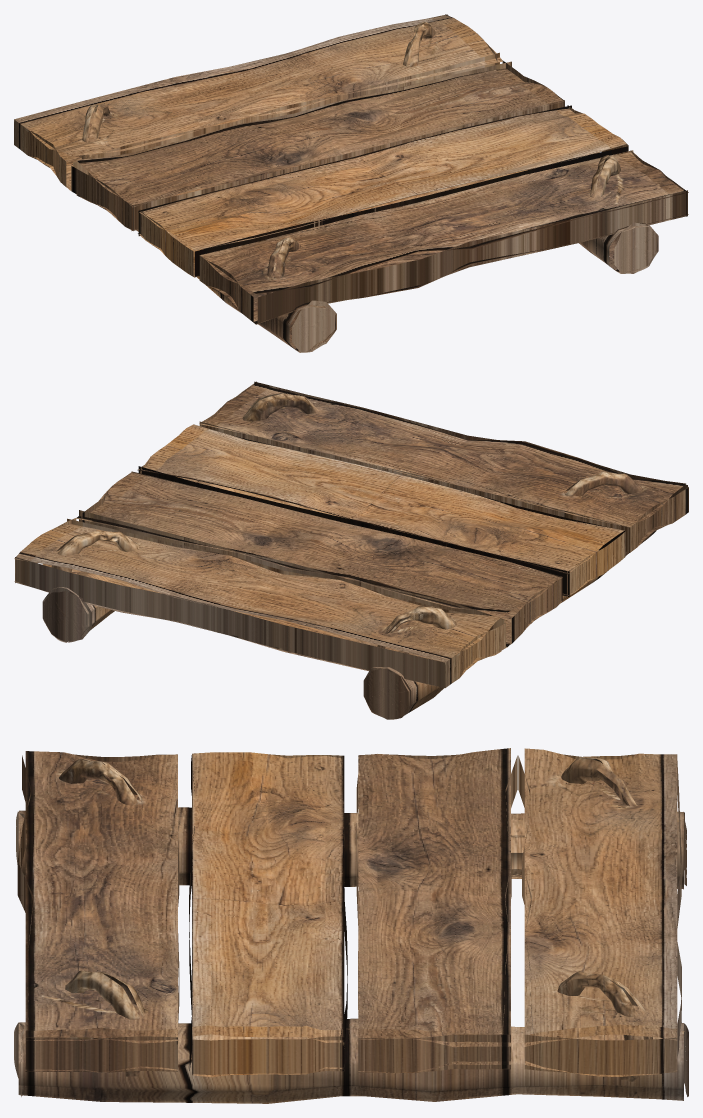
Rendered from Raft_Foundation.glb.
The picture shows the model from 3 angles, top to bottom: view 1: azimuth 30°, elevation 25°; view 2: azimuth 150°, elevation 25°; view 3: azimuth 270°, elevation 25°; orthographic projection. The views are drawn at different scales.
Visible parts, largest first — view 1: Log_Right; view 2: Log_Right; view 3: Log_Right.
Boxes of the visible parts, bbox=[...] form: Log_Right: bbox=[14, 14, 688, 352]; Log_Right: bbox=[14, 381, 688, 719]; Log_Right: bbox=[14, 748, 688, 1103].
Bounding box in the file's own units: 1.97 × 0.396 × 1.95.
Materials: 1 (1 with a texture image).
